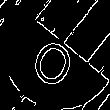O_NE: (27, 22, 83, 88)
